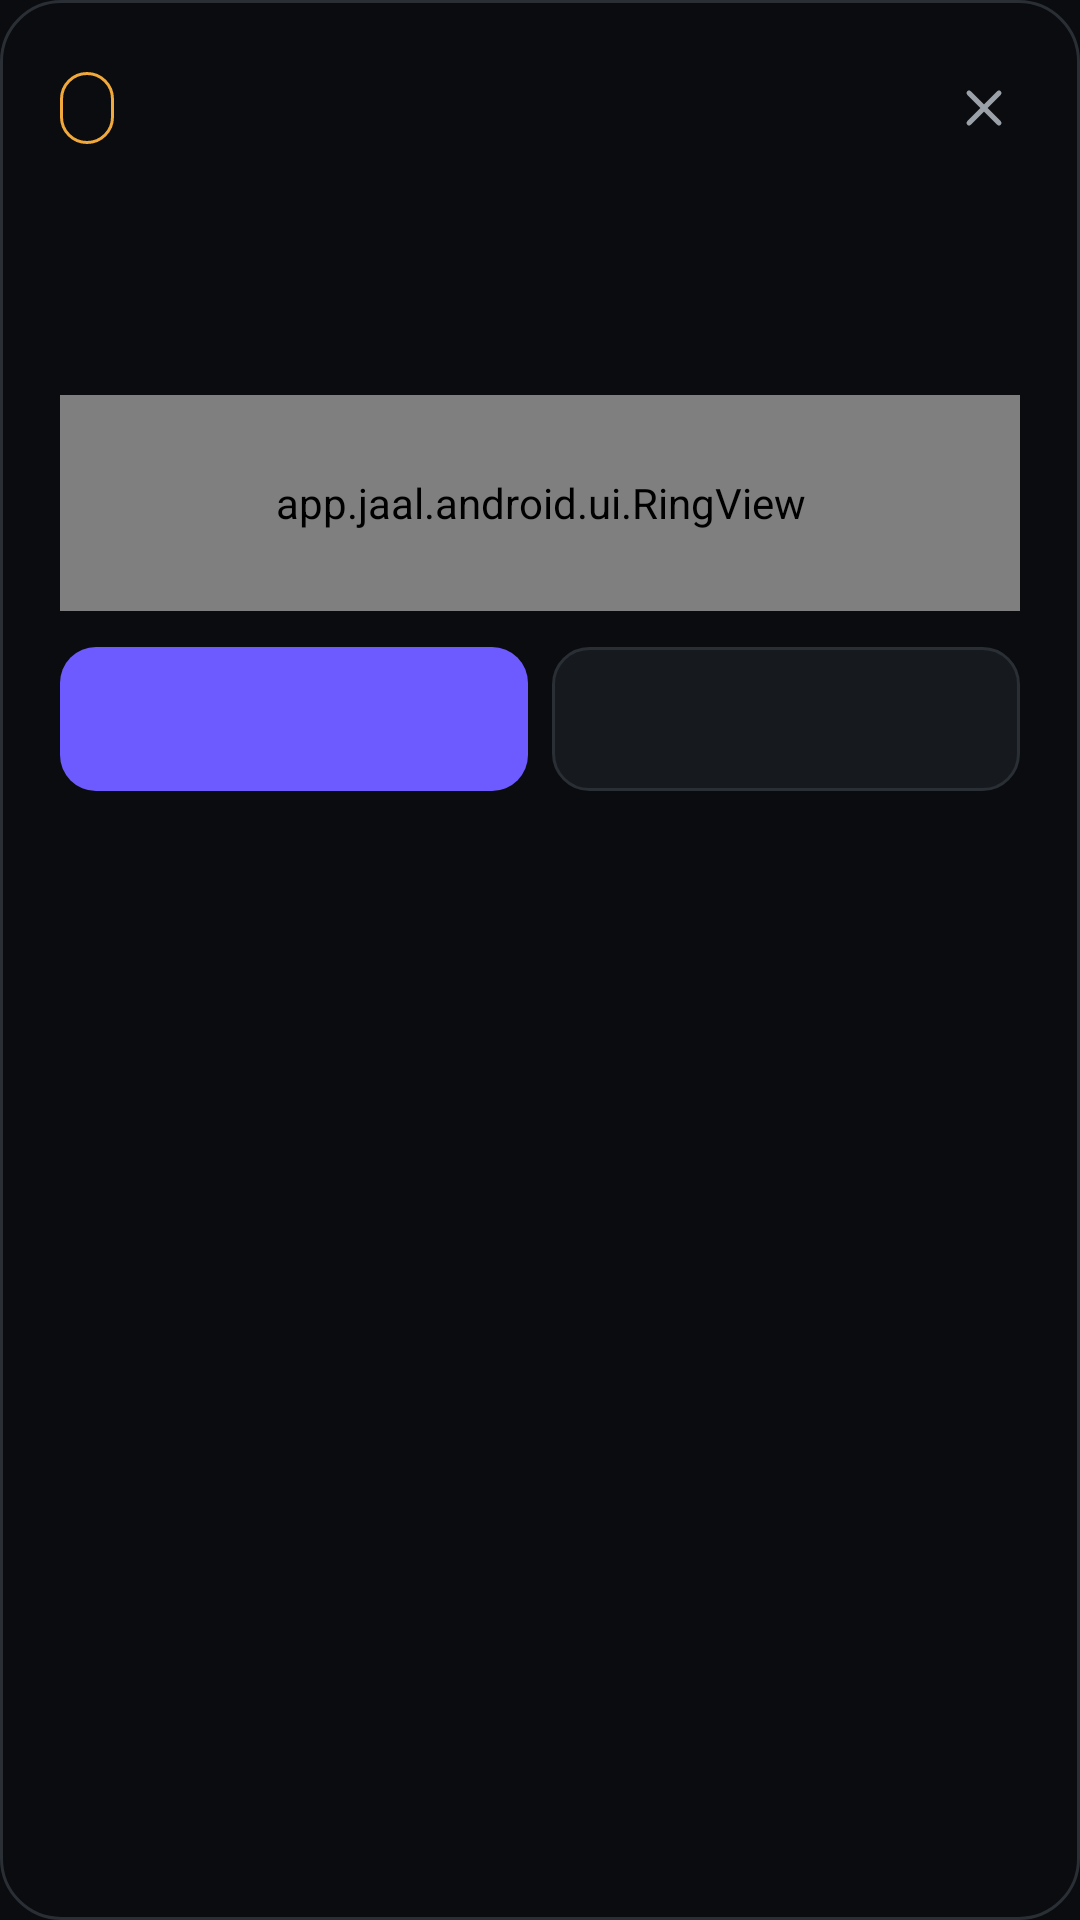

Named icons in this screenshot (1080px x 1920px) and their centers, [x,y]:
Dismiss: [984,108]
